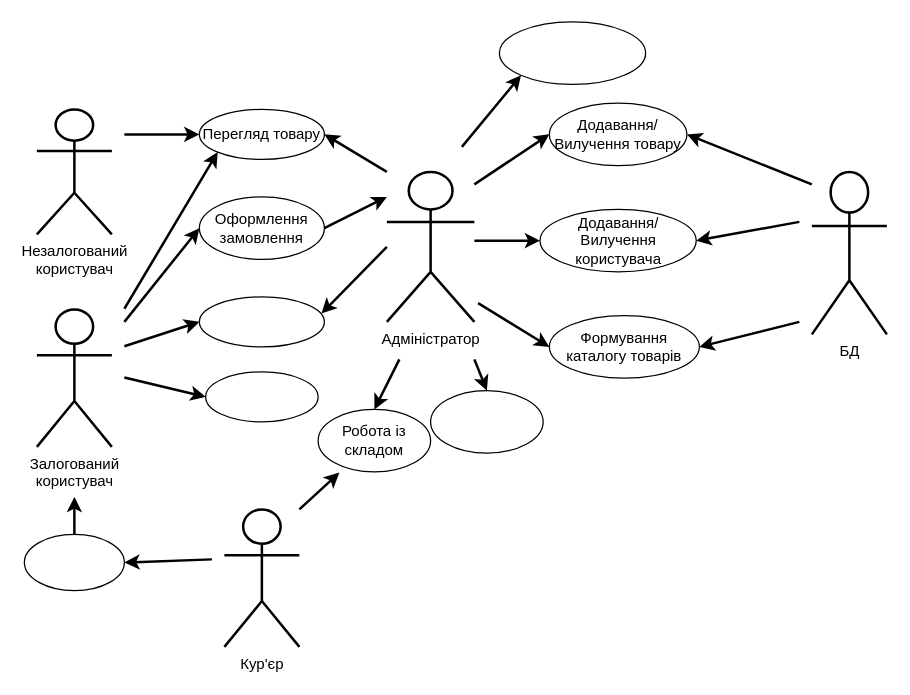
The diagram is 910 pixels wide and 695 high, and some of its shapes have lost their labels. Each missing label, with the centre of its shape:
"Вхід в систему" goes at (261,321).
"Доставка товару" goes at (73,562).
"Обробка інформації" goes at (486,421).
"Оплата замовлення" goes at (261,396).
"Пошук інформації про виробників" goes at (572,52).
